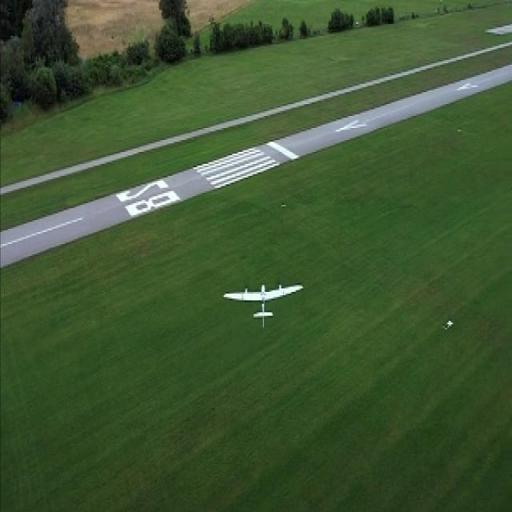uav: (218, 275, 304, 338)
